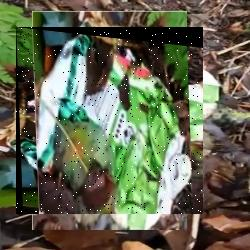metal: (16, 27, 203, 214)
